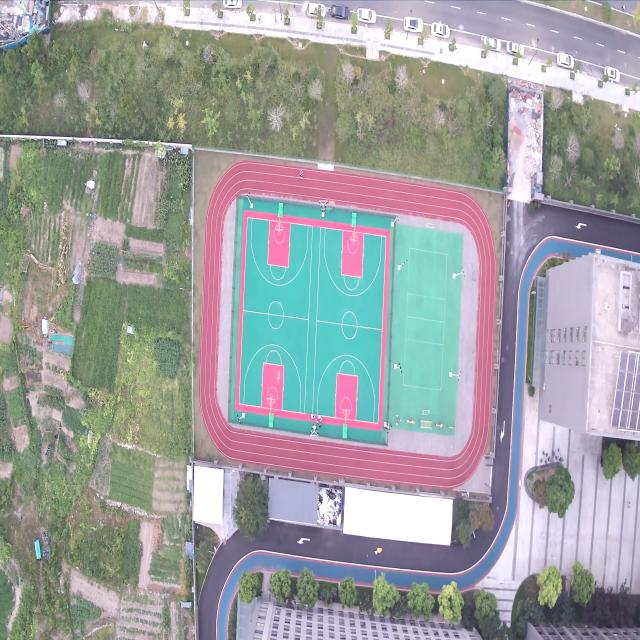UAV: (274, 368, 282, 384)
